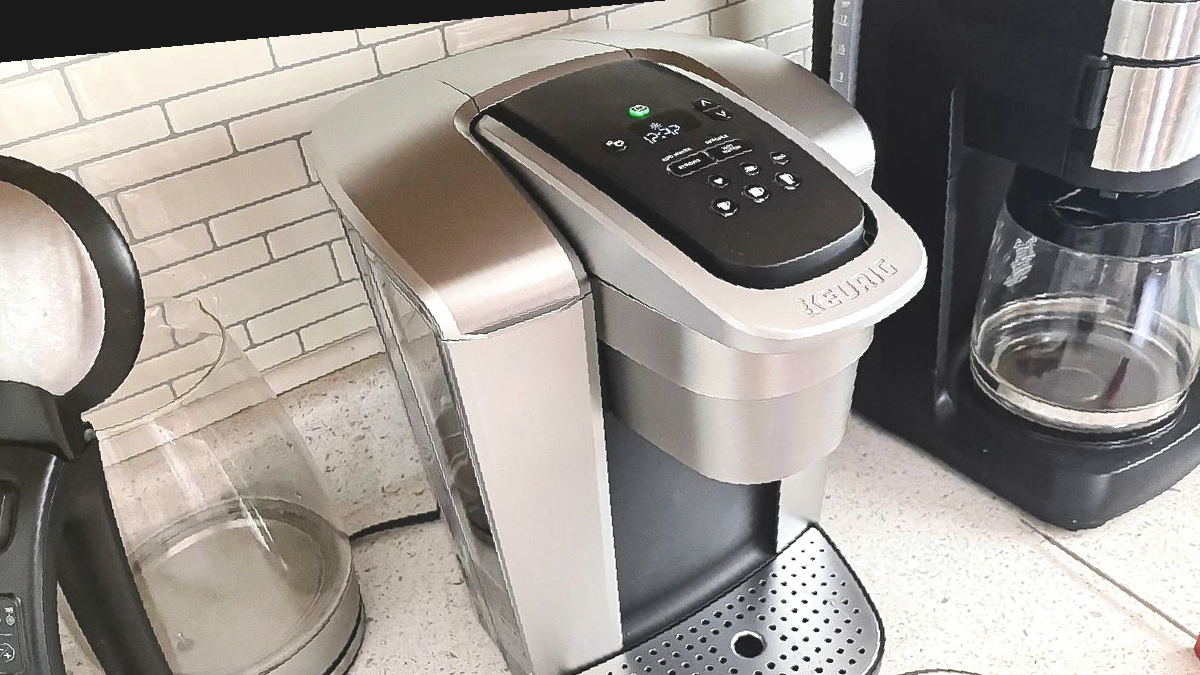10oz: (742, 181, 771, 204)
12oz: (772, 169, 802, 192)
4oz: (707, 172, 731, 191)
6oz: (738, 159, 762, 178)
8oz: (710, 196, 740, 219)
add_water: (653, 132, 699, 168)
descale: (704, 130, 751, 166), (694, 116, 736, 150)
iced: (767, 147, 791, 166)
power: (626, 103, 651, 120)
strong: (663, 148, 710, 184)
